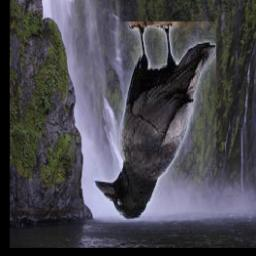Crow: (94, 22, 217, 220)
